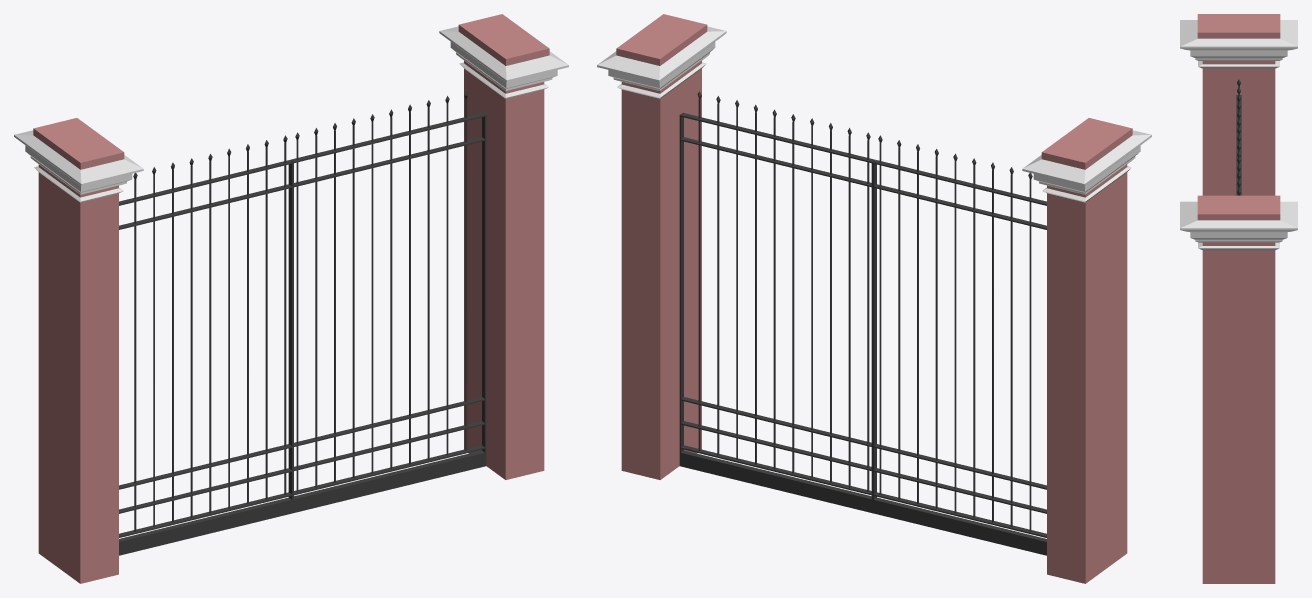
The model's file is portão.dae.
3 renders of one model, left to right at view 1: azimuth 30°, elevation 25°; view 2: azimuth 150°, elevation 25°; view 3: azimuth 270°, elevation 25°, orthographic. The views are drawn at different scales.
Parts seen in each view (by area): view 1: Portao; view 2: Portao; view 3: Portao.
Part boxes in pixels (x1,y1,x2,y2): Portao: [14, 14, 568, 583]; Portao: [597, 14, 1151, 583]; Portao: [1180, 14, 1297, 583].
Bounding box in the file's own units: 4.21 × 1.01 × 3.5.
